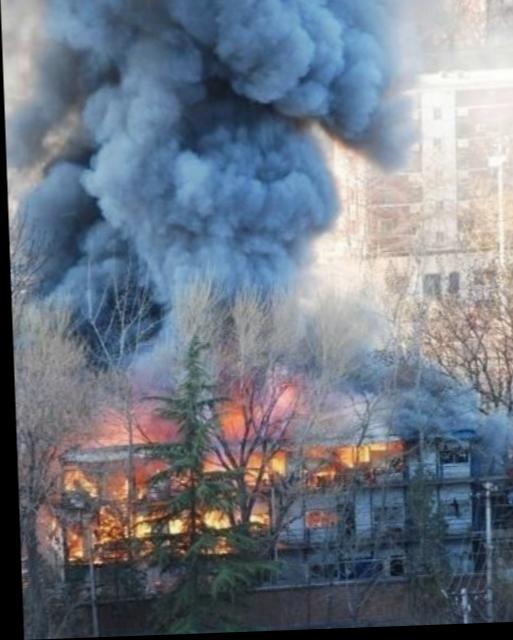fire: (37, 376, 373, 559)
